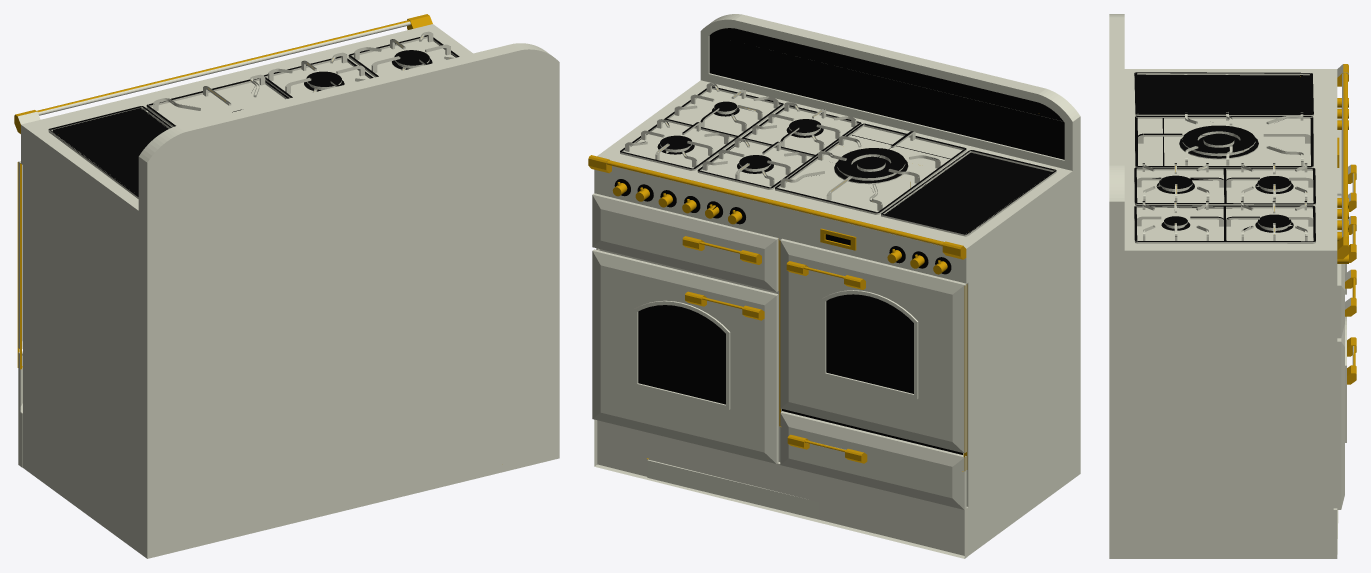
The picture shows the model from 3 angles, left to right: view 1: azimuth 30°, elevation 25°; view 2: azimuth 150°, elevation 25°; view 3: azimuth 270°, elevation 25°; orthographic projection. The views are drawn at different scales.
Parts seen in each view (by area): view 1: _falcon110classic; view 2: _falcon110classic; view 3: _falcon110classic.
Part boxes in pixels (<box>): _falcon110classic: <box>14,14,559,558</box>; _falcon110classic: <box>588,14,1080,558</box>; _falcon110classic: <box>1109,14,1356,558</box>.
Size of the model in its own units: 1.11 by 1.08 by 0.64.
